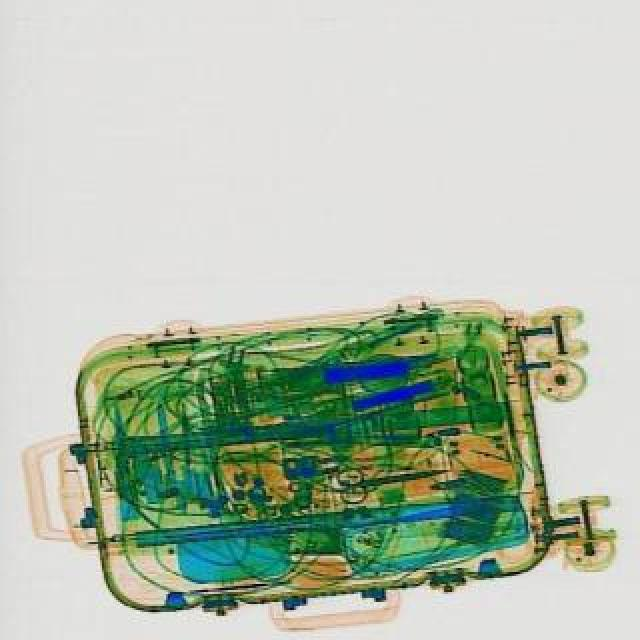pliers: (330, 452, 454, 504)
